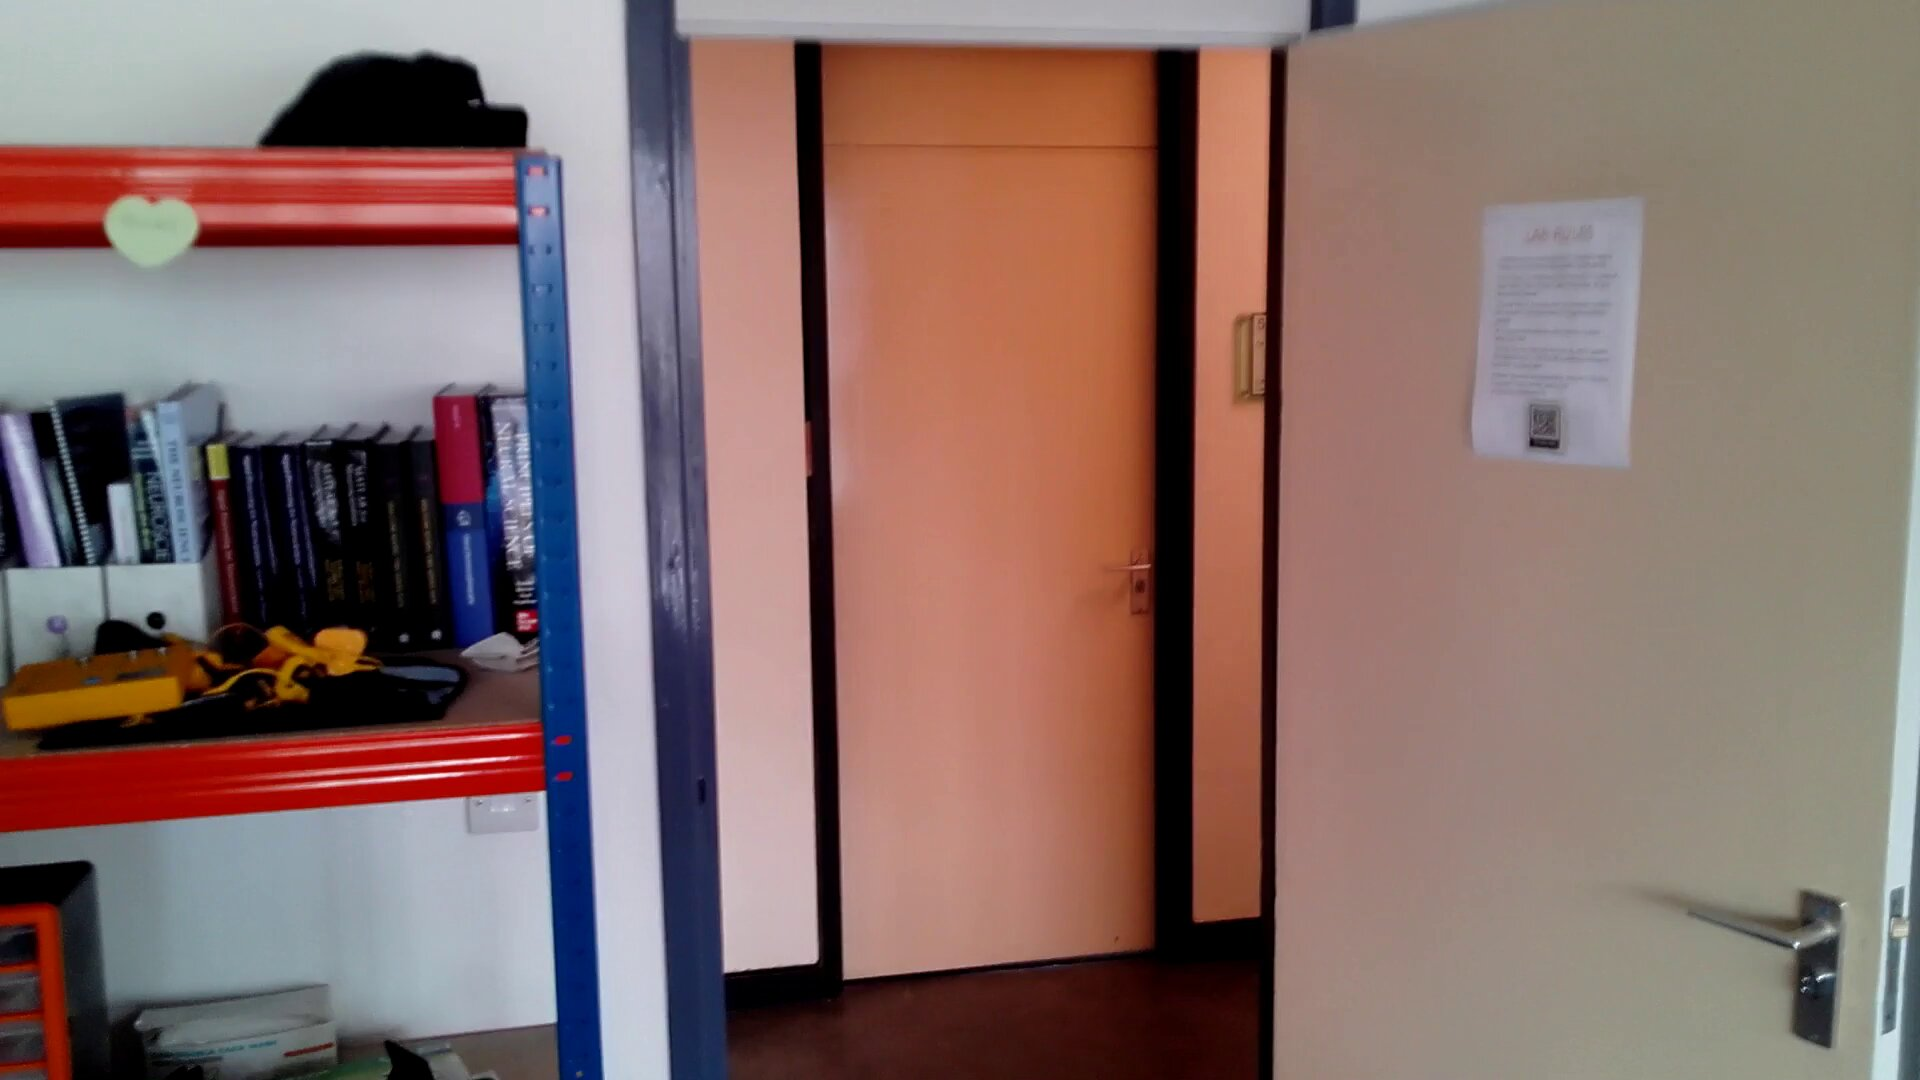Door: (1266, 36, 1920, 1080), (796, 131, 1212, 990)
